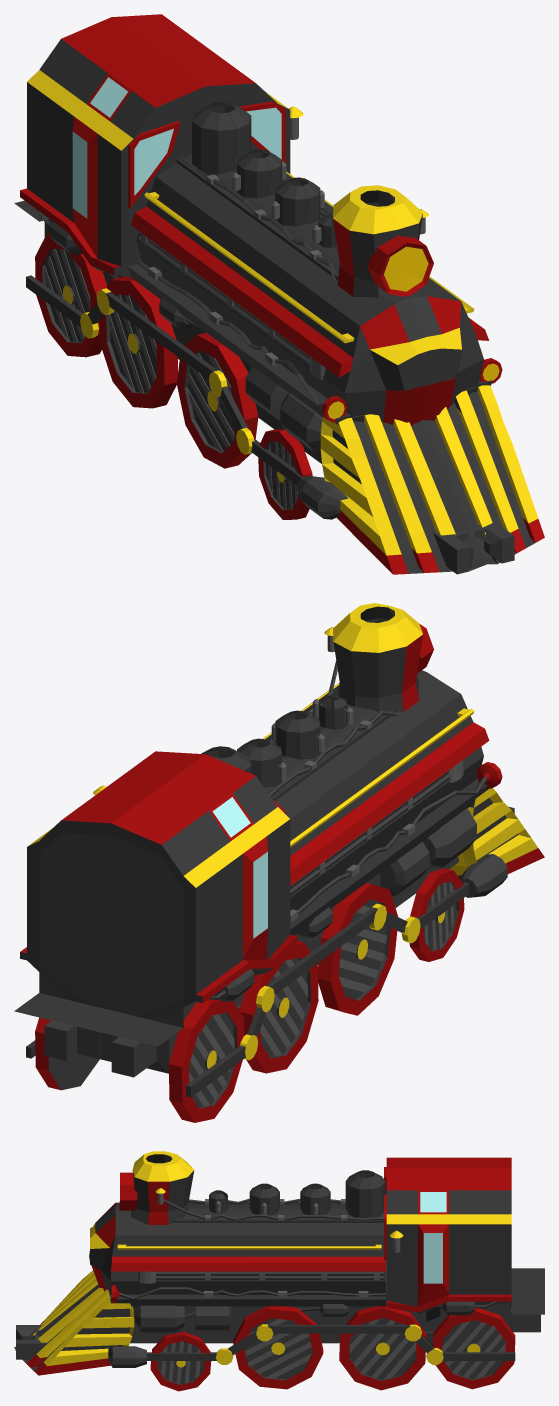
Rendered from Steam Train.fbx.
3 views of the same model, one above another, from view 1: azimuth 30°, elevation 25°; view 2: azimuth 150°, elevation 25°; view 3: azimuth 270°, elevation 25° (orthographic). The views are drawn at different scales.
Visible parts, largest first — view 1: Cube; view 2: Cube; view 3: Cube.
Part boxes in pixels (x1,y1,x2,y2): Cube: (14, 14, 544, 574); Cube: (14, 603, 544, 1122); Cube: (14, 1151, 544, 1391).
Size of the model in its own units: 266 by 401 by 932.
